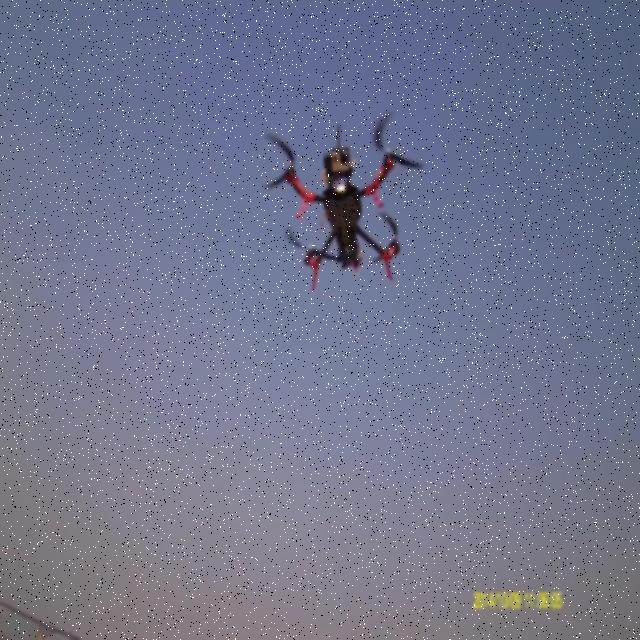UAV: (268, 116, 417, 292)
